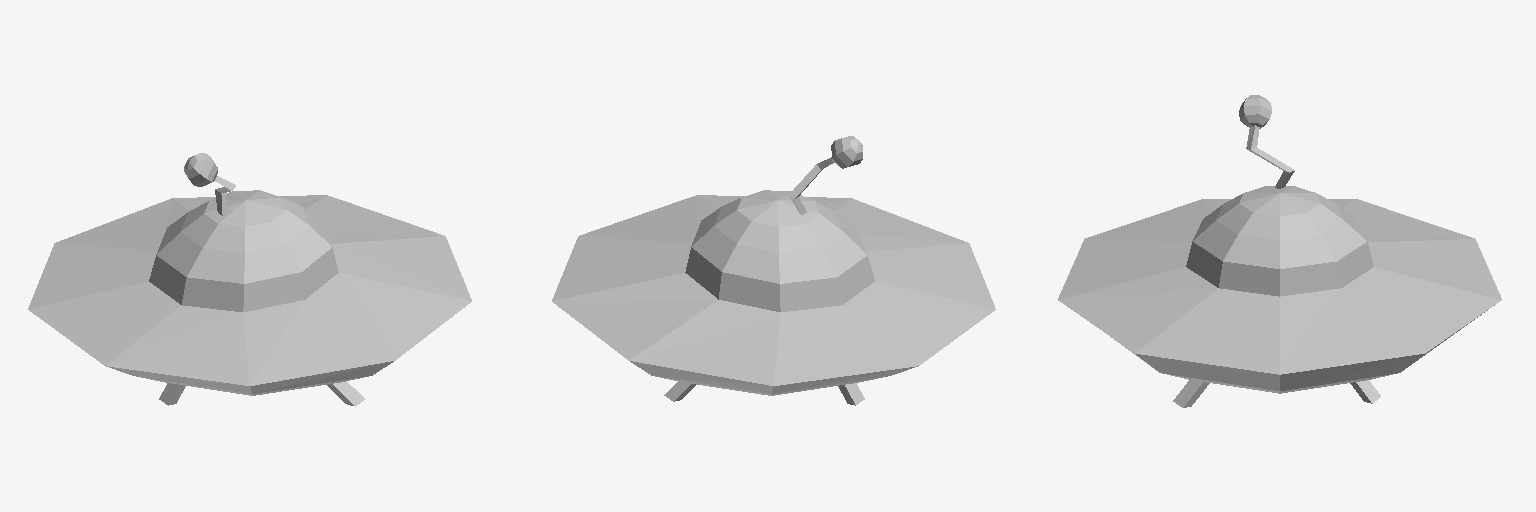
Rendered from UFO.obj.
The picture shows the model from 3 angles: view 1: azimuth 30°, elevation 25°; view 2: azimuth 150°, elevation 25°; view 3: azimuth 270°, elevation 25°; orthographic projection.
Visible parts, largest first — view 1: pSphere1, pSphere2; view 2: pSphere1, pSphere2; view 3: pSphere1, pSphere2.
Part boxes in pixels (bbox=[...]): pSphere1: bbox=[28, 176, 471, 406]; pSphere2: bbox=[184, 153, 217, 186]; pSphere1: bbox=[552, 157, 995, 405]; pSphere2: bbox=[831, 136, 862, 168]; pSphere1: bbox=[1058, 125, 1501, 407]; pSphere2: bbox=[1239, 95, 1271, 128].
Bounding box in the file's own units: 6.25 × 3.97 × 6.35.